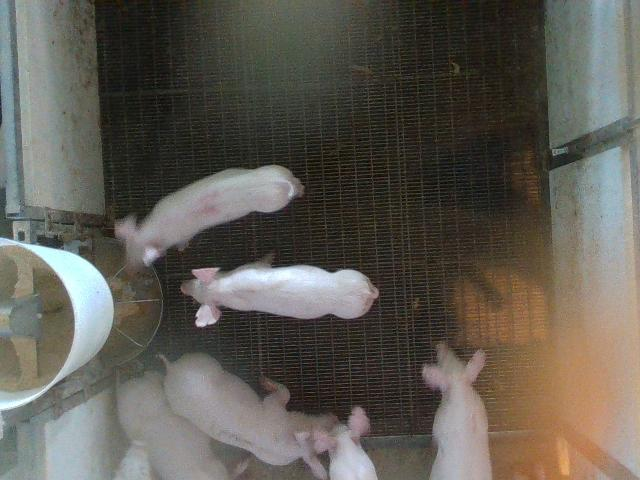pig-4: (115, 165, 304, 264)
